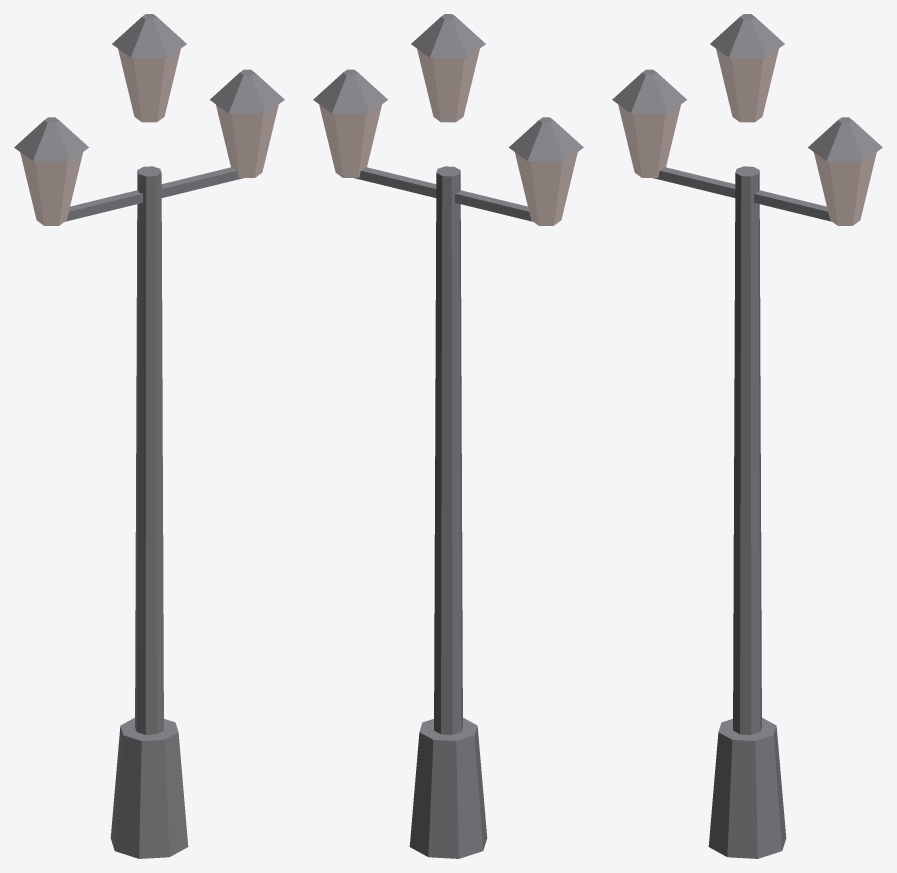
File: VN_Farola.fbx
3 renders of one model, left to right at view 1: azimuth 30°, elevation 25°; view 2: azimuth 150°, elevation 25°; view 3: azimuth 330°, elevation 25°, orthographic.
Parts seen in each view (by area): view 1: VN_Farola; view 2: VN_Farola; view 3: VN_Farola.
Part boxes in pixels (left/top/right/bottom): VN_Farola: left=14, top=14, right=284, bottom=858; VN_Farola: left=313, top=14, right=583, bottom=858; VN_Farola: left=612, top=14, right=882, bottom=858.
Size of the model in its own units: 1.16 by 3.63 by 0.32.
